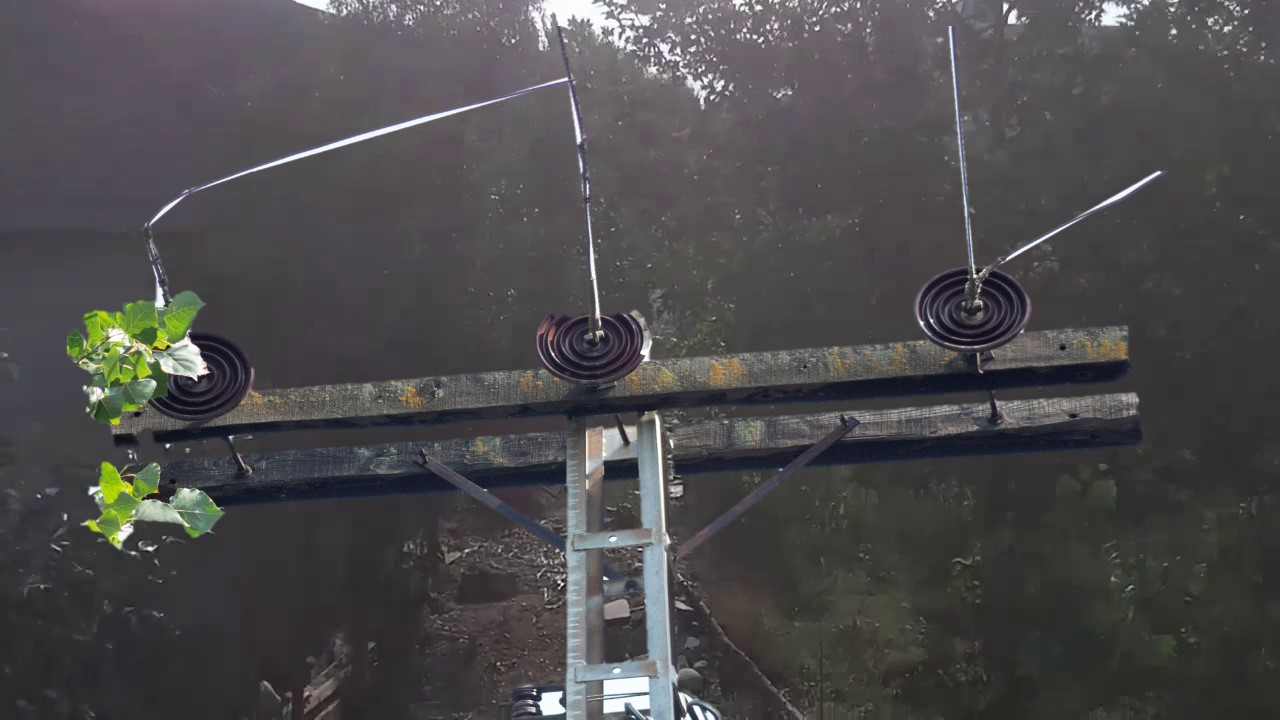defect_disc: (527, 305, 658, 394)
insulator_disc: (910, 261, 1038, 354), (161, 324, 261, 428)
